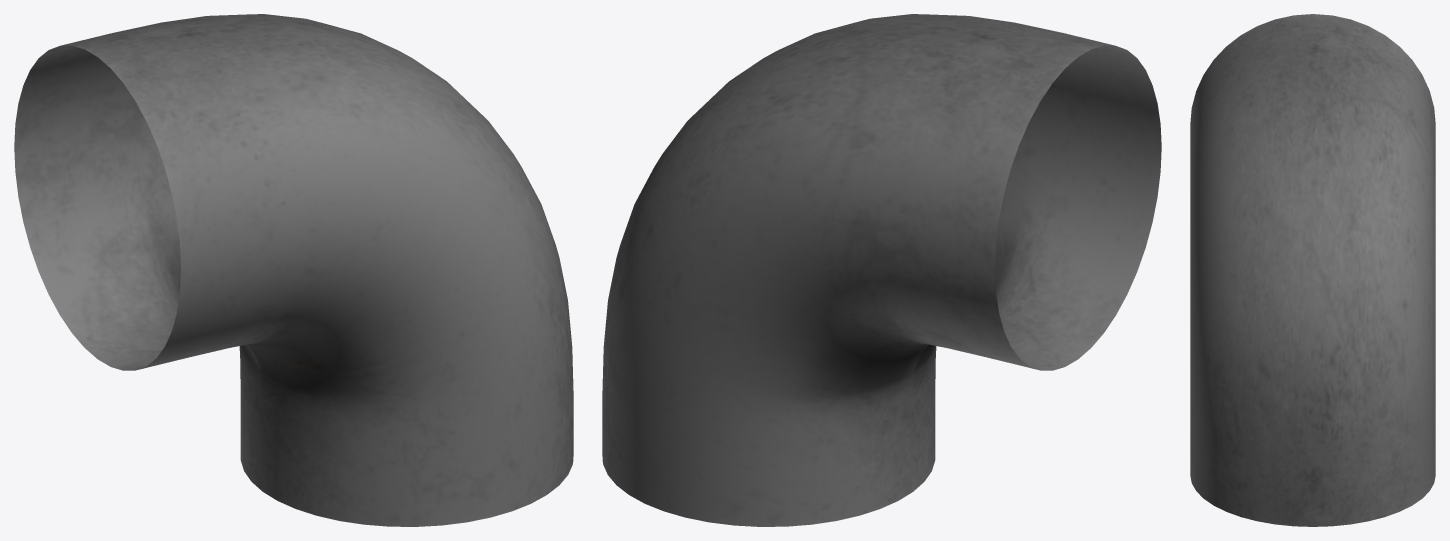
Rendered from TuboVirada.glb.
3 renders of one model, left to right at view 1: azimuth 30°, elevation 25°; view 2: azimuth 150°, elevation 25°; view 3: azimuth 270°, elevation 25°, orthographic. The views are drawn at different scales.
Parts seen in each view (by area): view 1: pipe_90; view 2: pipe_90; view 3: pipe_90.
Boxes of the visible parts, left/top/right/bottom form: pipe_90: left=14, top=14, right=573, bottom=526; pipe_90: left=602, top=14, right=1161, bottom=526; pipe_90: left=1190, top=14, right=1435, bottom=526.
Size of the model in its own units: 0.0311 by 0.0311 by 0.0198.
Materials: 1 (1 with a texture image).
